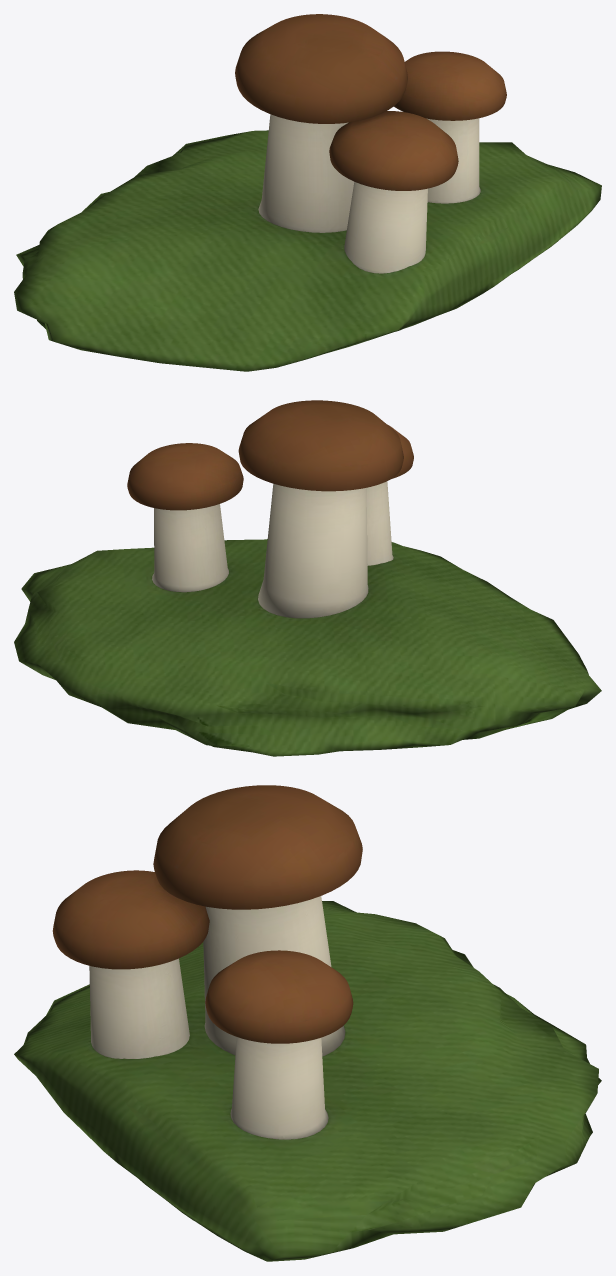
File: porcini.glb
3 views of the same model, one above another, from view 1: azimuth 30°, elevation 25°; view 2: azimuth 150°, elevation 25°; view 3: azimuth 270°, elevation 25° (orthographic). The views are drawn at different scales.
Parts seen in each view (by area): view 1: moss, cap, stem; view 2: moss, stem, cap; view 3: moss, cap, stem.
Part boxes in pixels (bbox=[...]): moss: bbox=[14, 130, 601, 371]; cap: bbox=[235, 14, 506, 190]; stem: bbox=[258, 114, 480, 273]; moss: bbox=[14, 539, 601, 756]; stem: bbox=[152, 481, 393, 618]; cap: bbox=[127, 400, 413, 510]; moss: bbox=[14, 901, 601, 1261]; cap: bbox=[52, 785, 362, 1043]; stem: bbox=[89, 896, 345, 1139].
Size of the model in its own units: 0.3836 by 0.1536 by 0.2798.
Materials: 4 (4 with a texture image).
